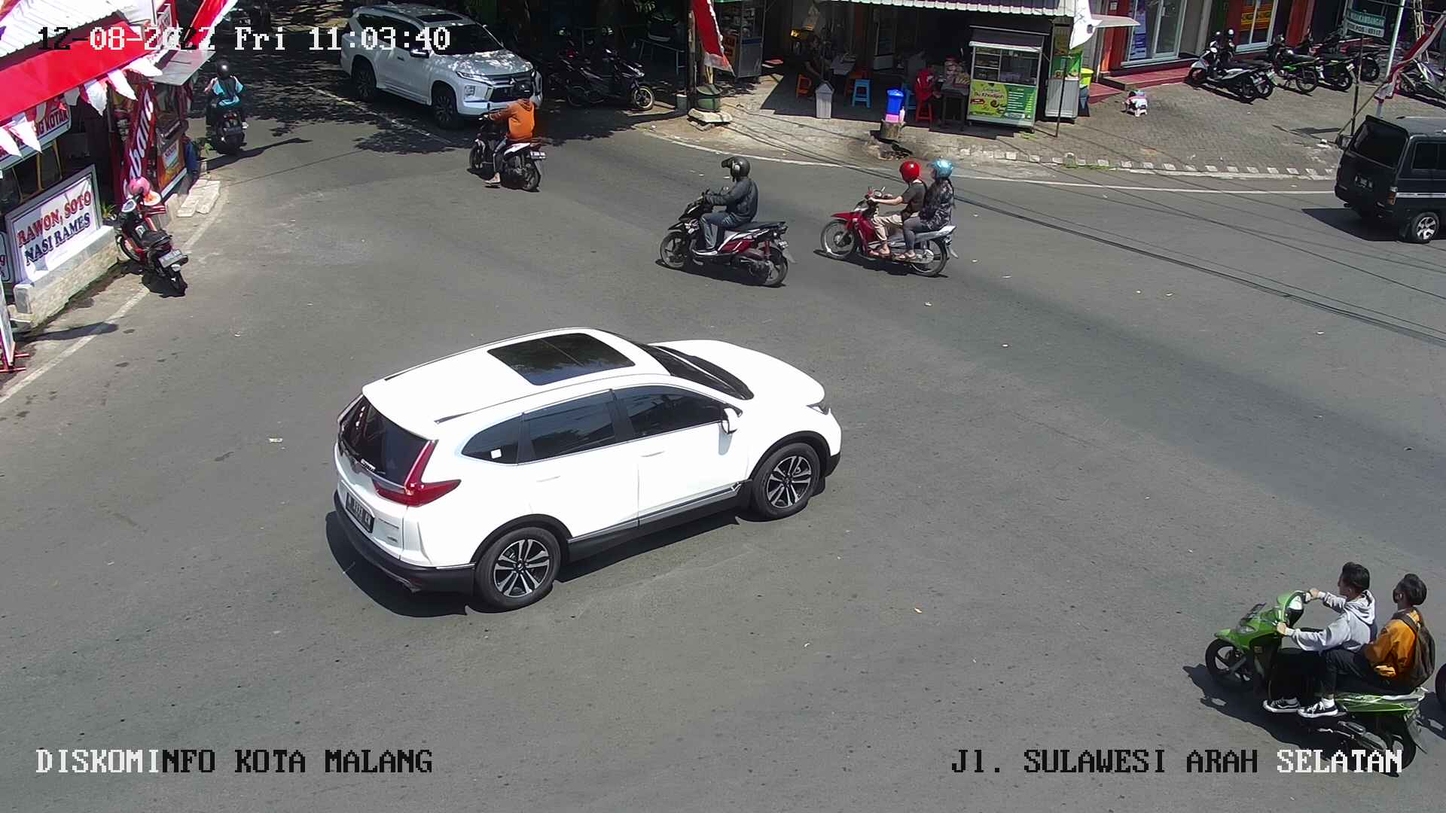with_helmet: (651, 152, 798, 295), (818, 159, 960, 290), (468, 74, 551, 200), (203, 58, 250, 157)
without_helmet: (1191, 549, 1446, 770)
